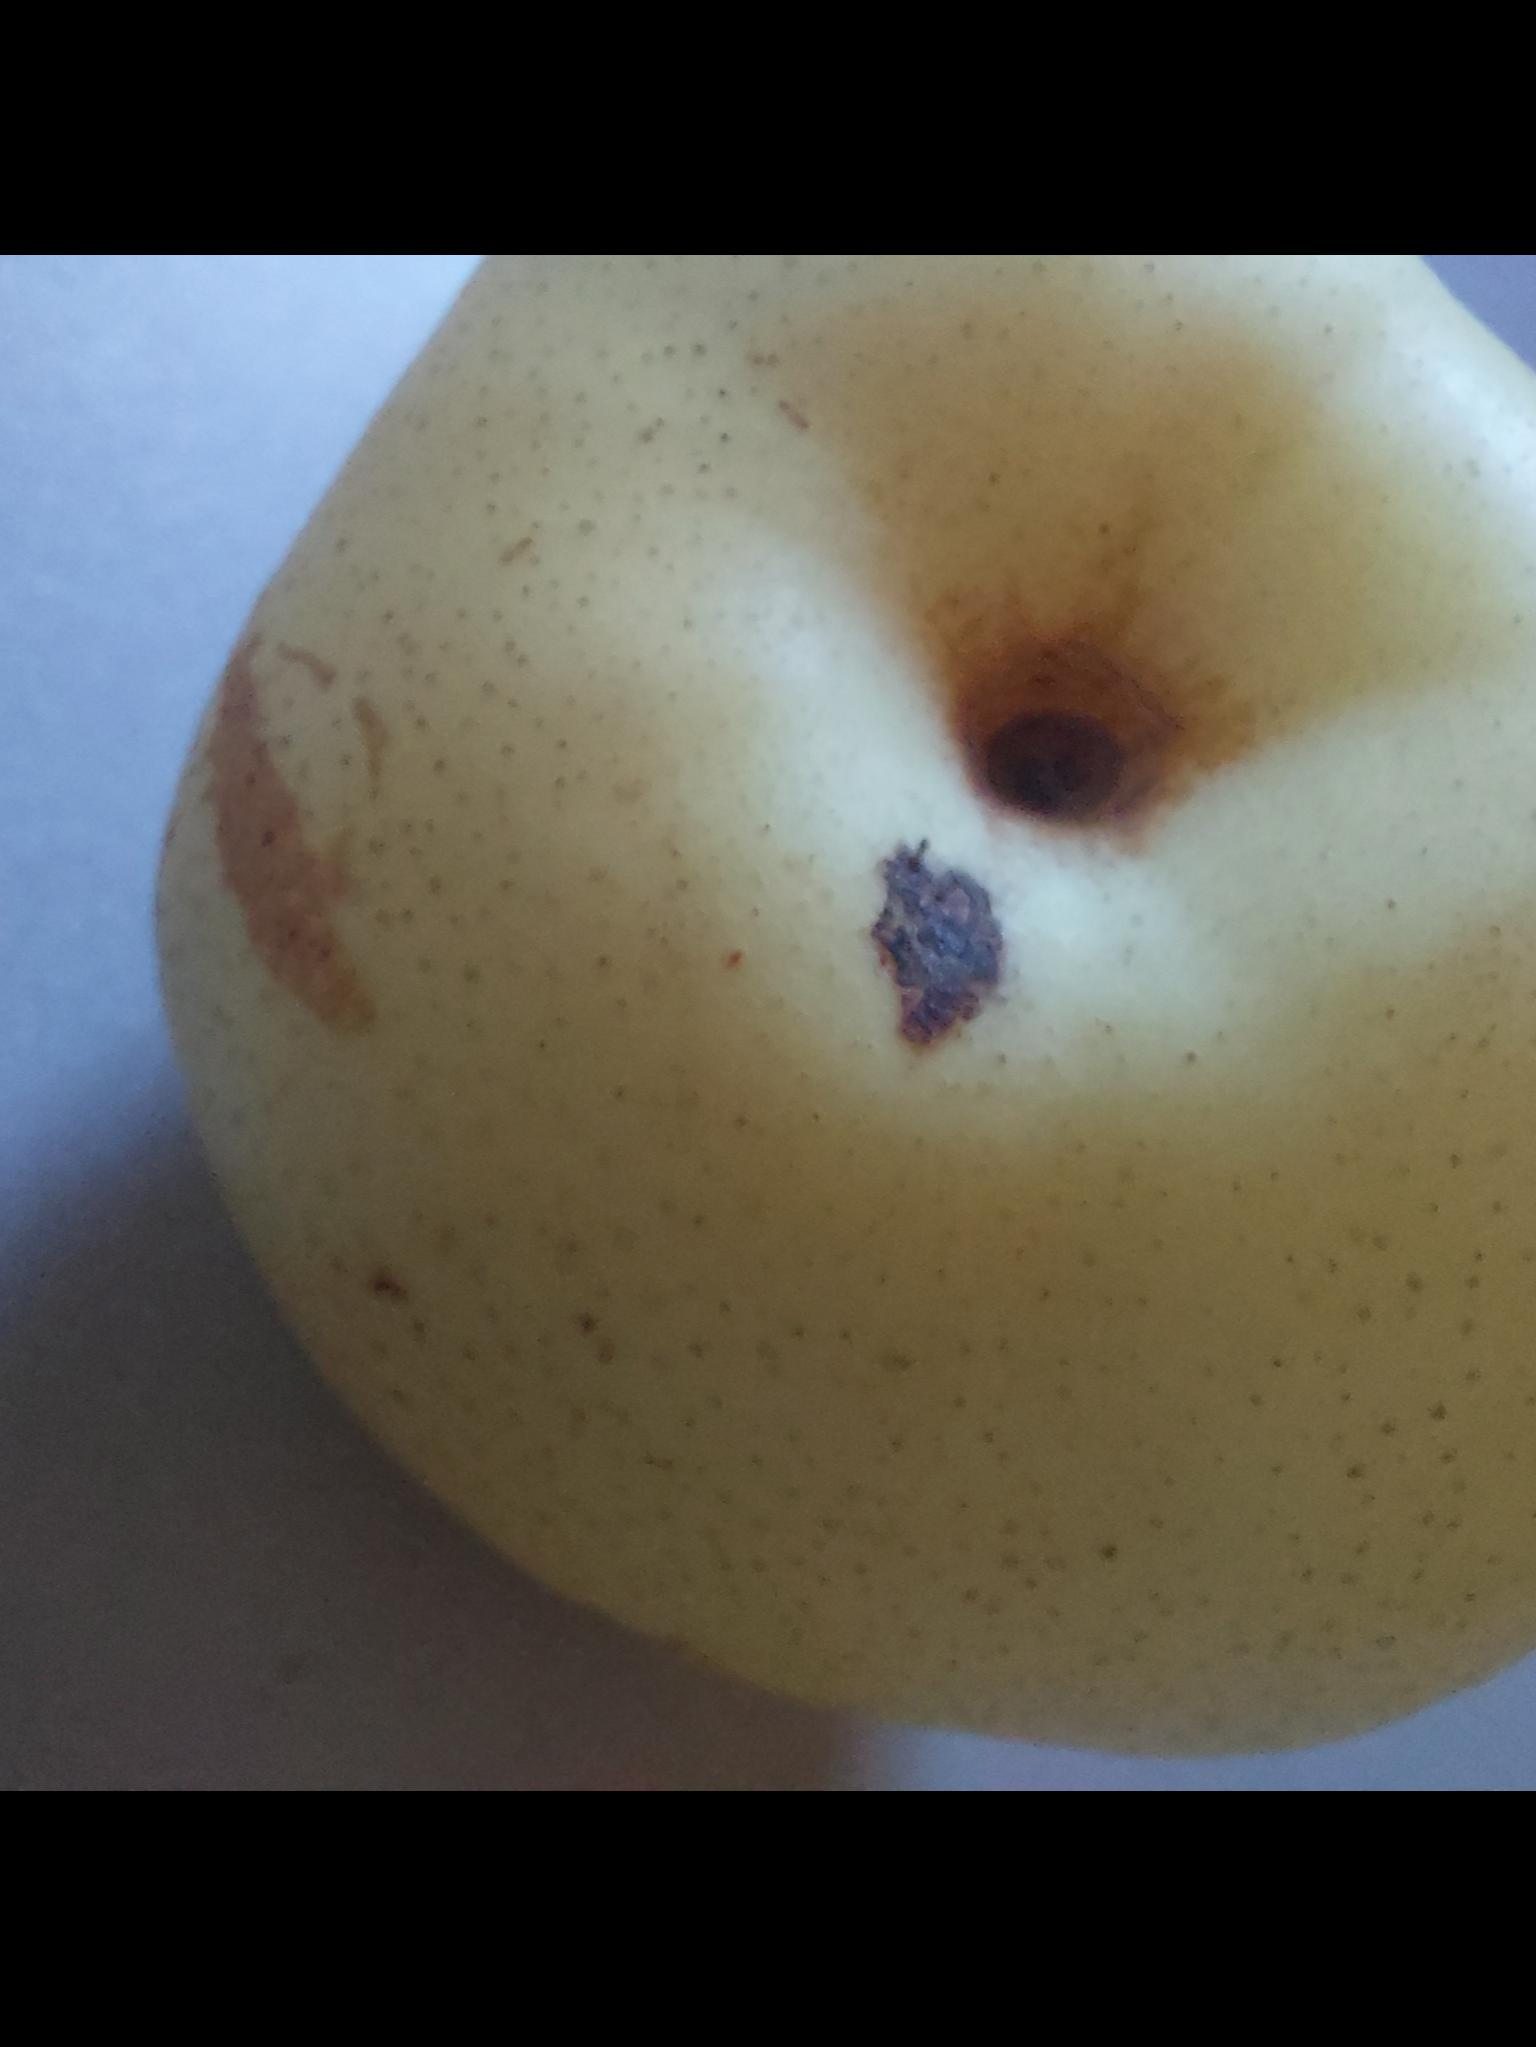Good Pear: (82, 255, 1536, 1791)
